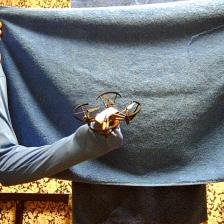drone: (74, 90, 141, 137)
